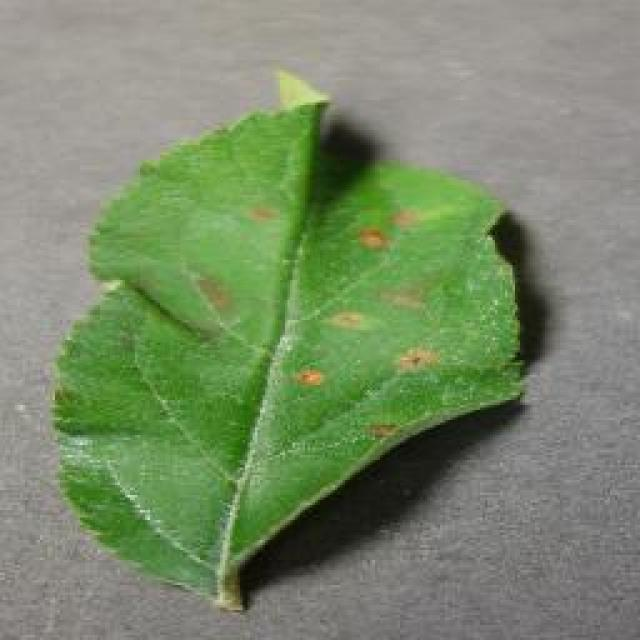apple healthy: (48, 68, 528, 612)
